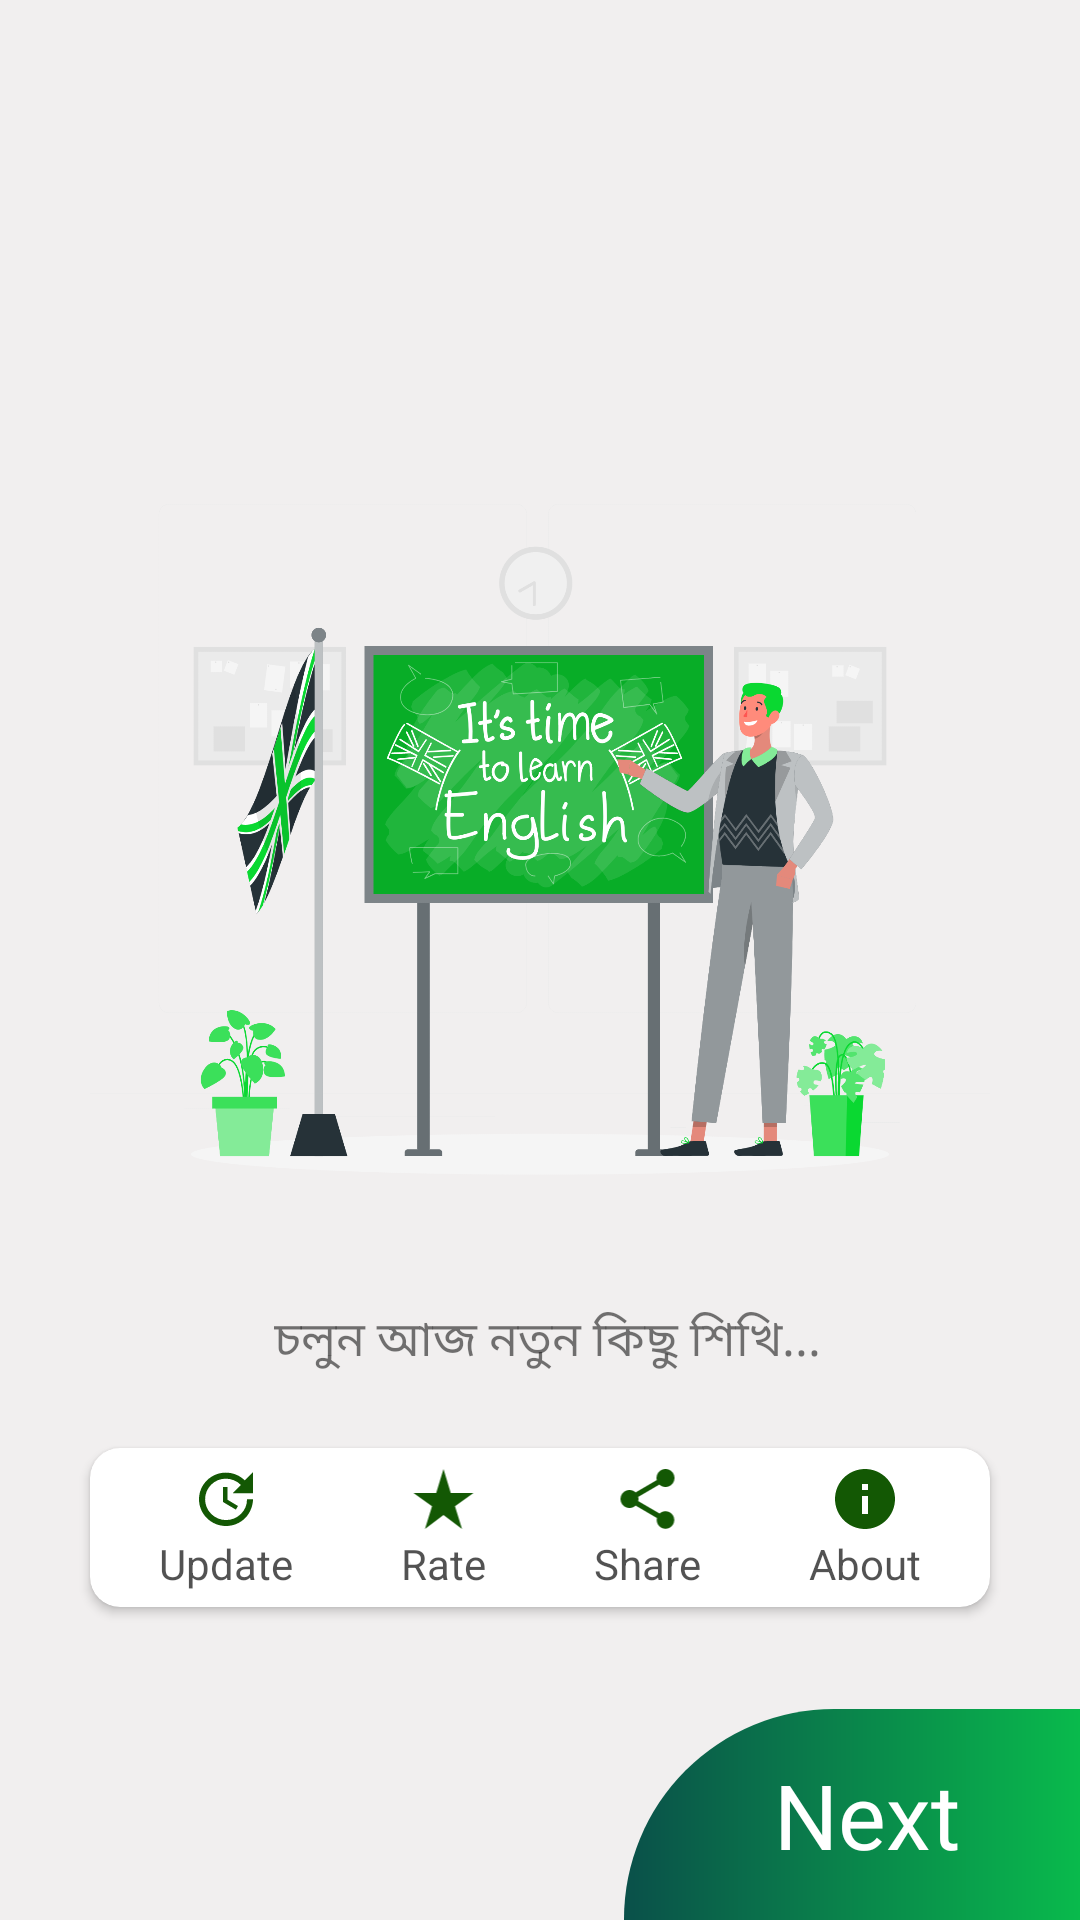

Icons on this 1080 × 1920 Android screen, each with its box as [x1,y1,x2,y2]:
star: [413,1469,474,1529]
